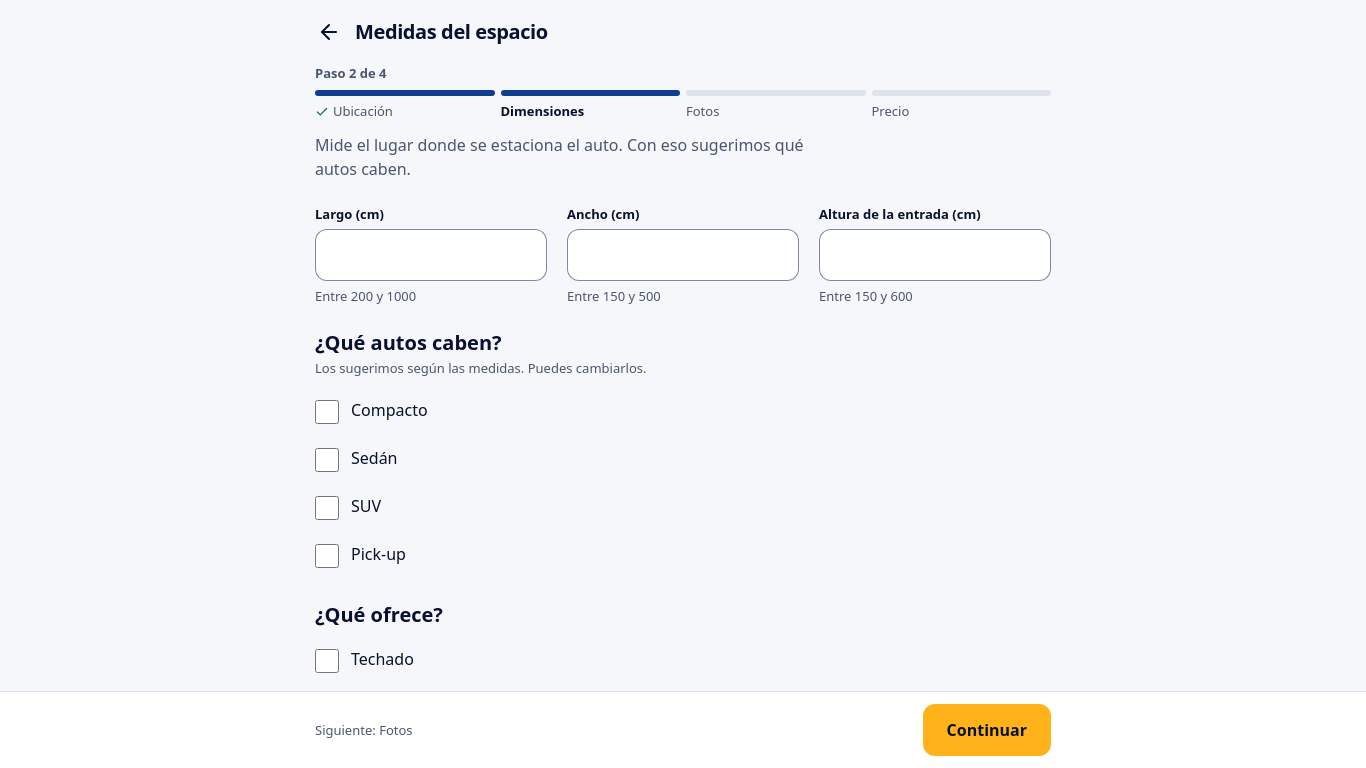
Test: size step › warns when the measurements fit no standard car
Expected: the heading "Medidas del espacio" is shown, [355, 18, 548, 45]
Type "300" into the field labelled "Largo (cm)".
click(431, 255); type("300")  # box [331, 229, 531, 281]
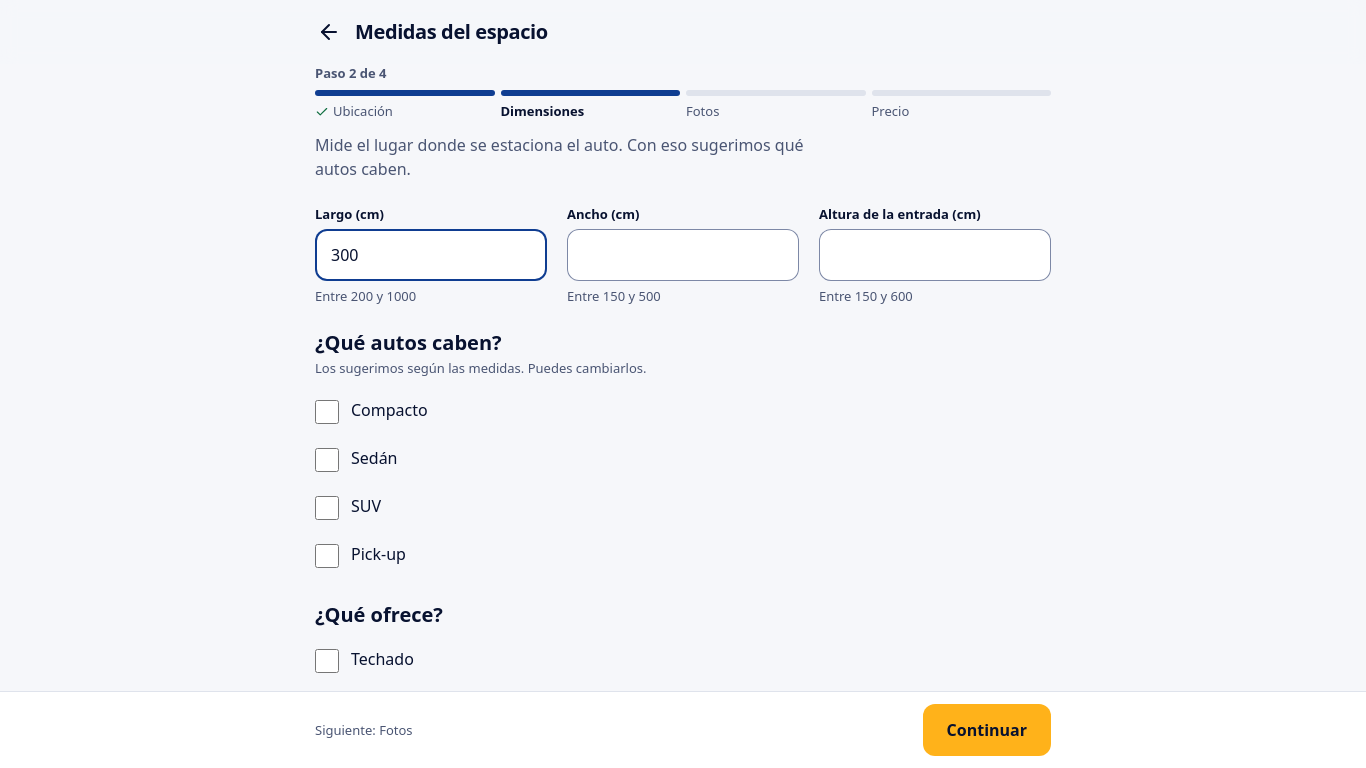
Type "200" into the field labelled "Ancho (cm)".
click(683, 255); type("200")  # box [583, 229, 783, 281]
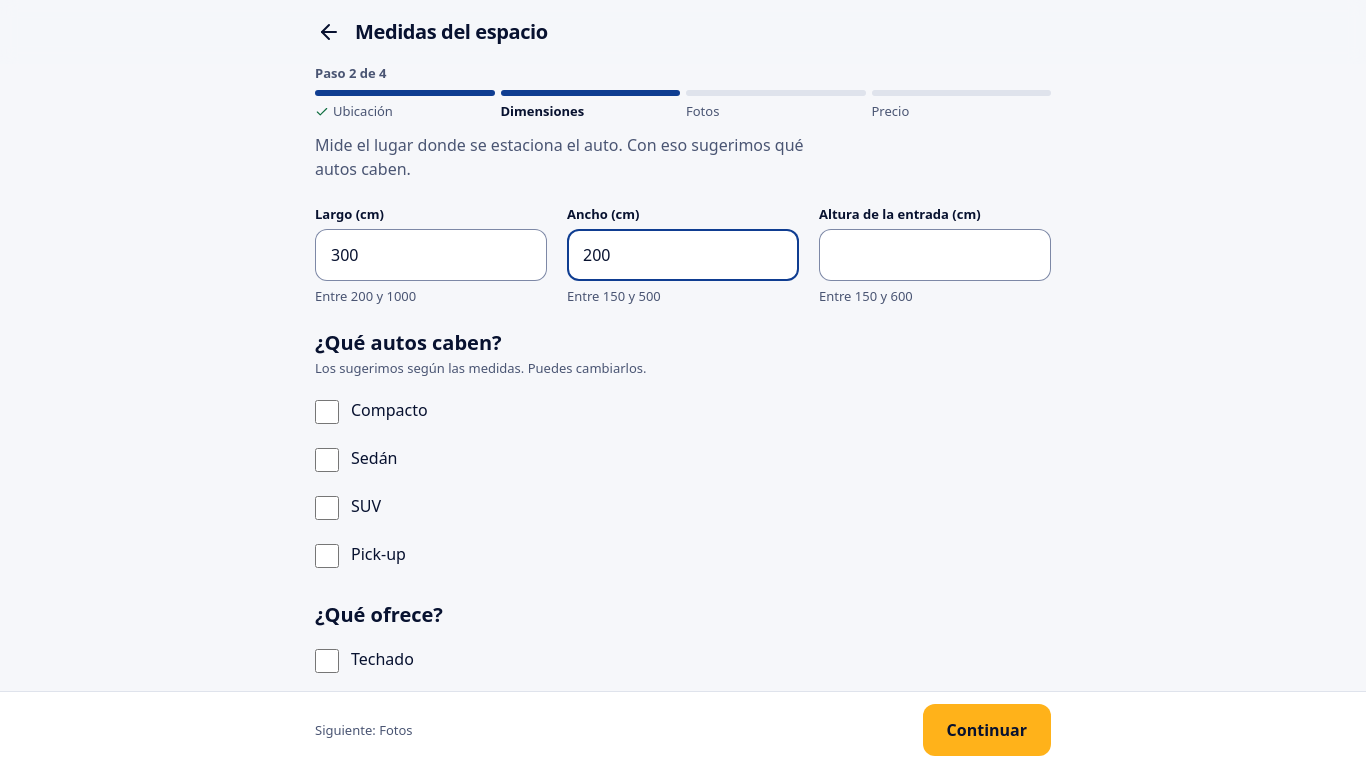
Type "200" into the field labelled "Altura de la entrada (cm)".
click(935, 255); type("200")  # box [835, 229, 1035, 281]
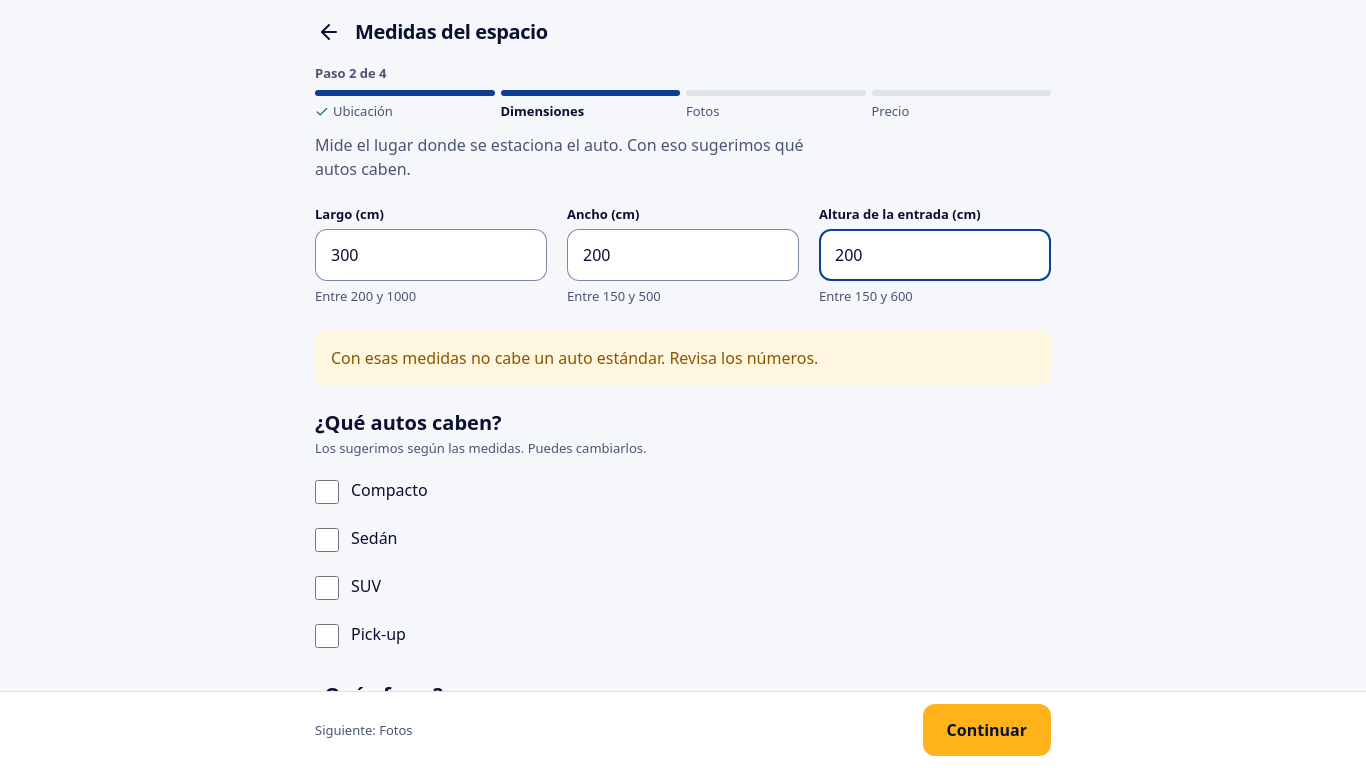
Expected: the text "no cabe un auto estándar" is shown, [331, 347, 818, 369]
